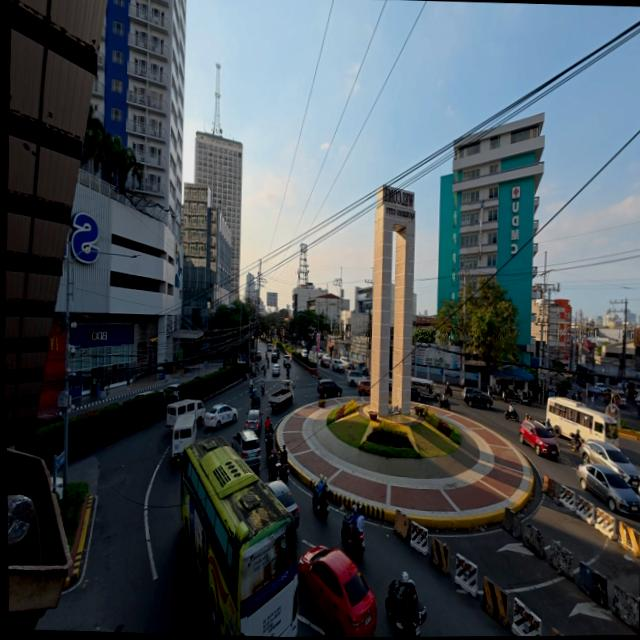bus: (180, 437, 297, 636), (546, 397, 618, 446)
car: (297, 547, 376, 637), (576, 465, 639, 513), (582, 441, 639, 491), (518, 420, 558, 458), (267, 481, 299, 527), (232, 429, 260, 472), (204, 404, 236, 427), (463, 388, 492, 408), (317, 379, 341, 399), (245, 409, 260, 436), (36, 414, 62, 428), (346, 369, 363, 386), (163, 384, 179, 400), (330, 358, 346, 373), (611, 391, 625, 406), (357, 379, 370, 395), (410, 387, 423, 403), (132, 390, 154, 399), (340, 357, 351, 369), (319, 357, 329, 369), (595, 383, 606, 393), (461, 387, 470, 399), (272, 364, 280, 376), (282, 355, 290, 366), (270, 352, 277, 362), (316, 352, 323, 360), (300, 350, 306, 358), (300, 340, 306, 348), (266, 344, 271, 352), (637, 479, 639, 498), (256, 352, 260, 360)
motorcycle: (340, 513, 364, 557), (403, 603, 425, 636), (311, 490, 328, 518), (569, 434, 582, 453), (268, 459, 278, 482), (504, 408, 519, 422), (278, 464, 287, 482), (265, 437, 272, 460), (518, 393, 530, 406), (438, 398, 450, 410), (250, 396, 260, 409), (444, 386, 452, 398), (260, 383, 264, 394), (285, 368, 289, 378), (571, 393, 576, 400)
trucks: (268, 380, 293, 408)
vans: (172, 413, 196, 461), (166, 400, 204, 429)
